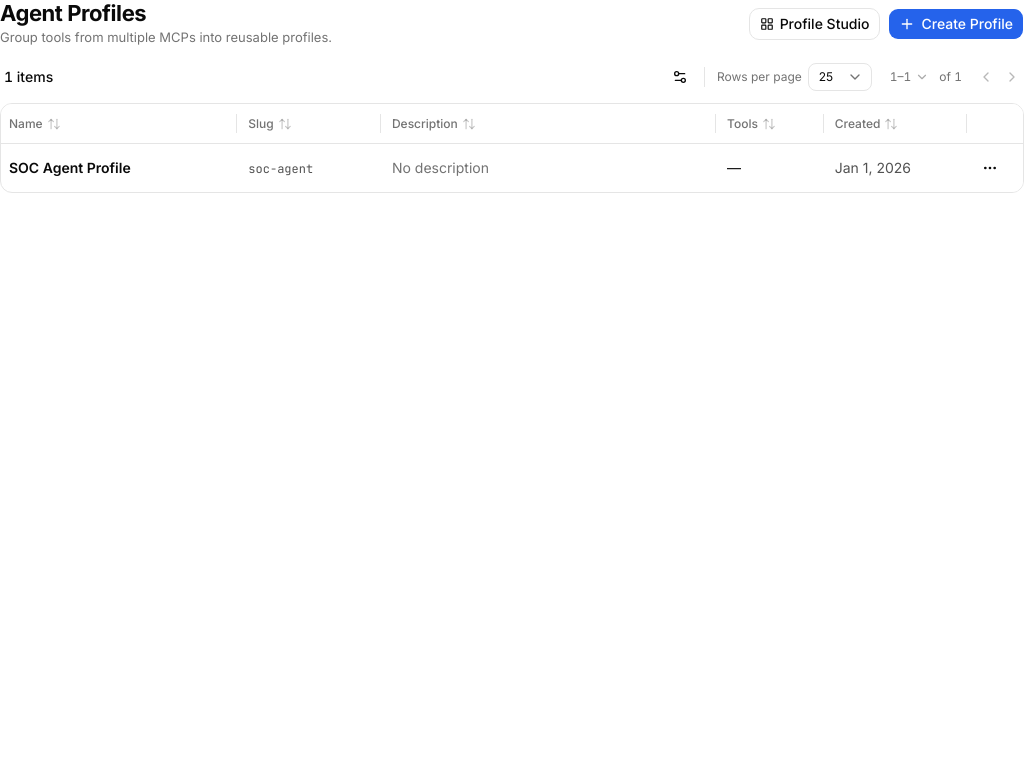
ProfileStudioModal › renders the Skills & commands tab with kind and scope badges
Click the button "Profile Studio": (814,24) [749, 8, 880, 40]
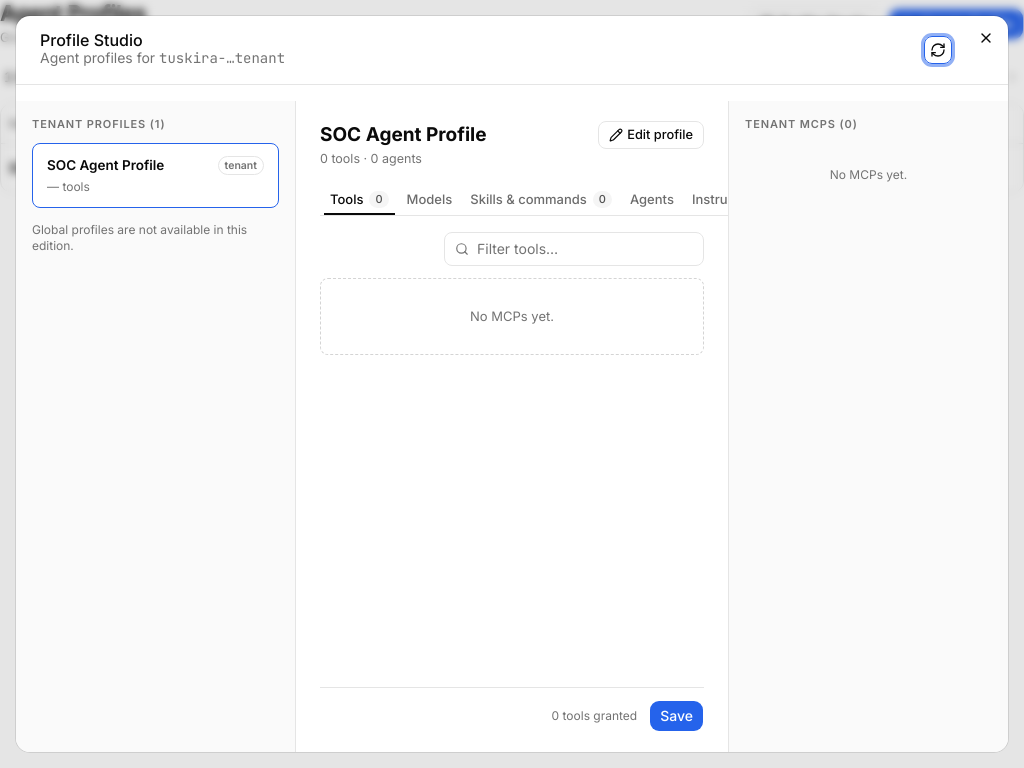
Click the tab "Skills & commands 0": (541,200) [463, 188, 619, 212]
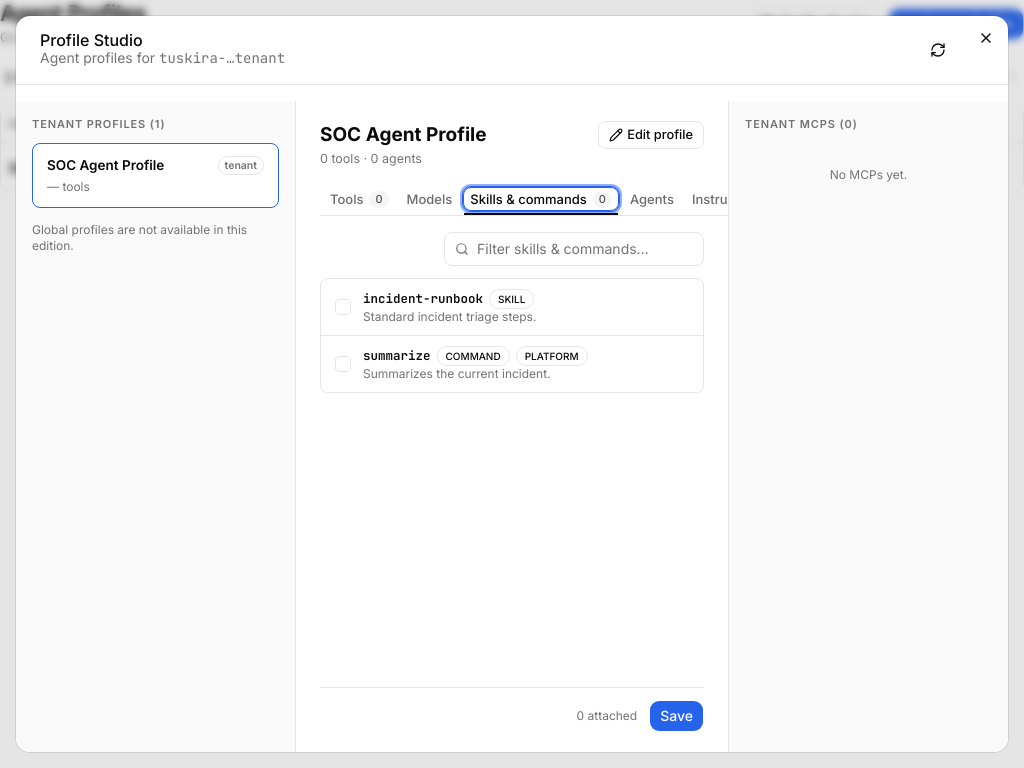
Expected: the text "incident-runbook" is shown, [363, 290, 483, 308]
Expected: the text "summarize" is shown, [363, 347, 430, 365]
Expected: the icon "skill" is shown, [489, 289, 534, 309]
